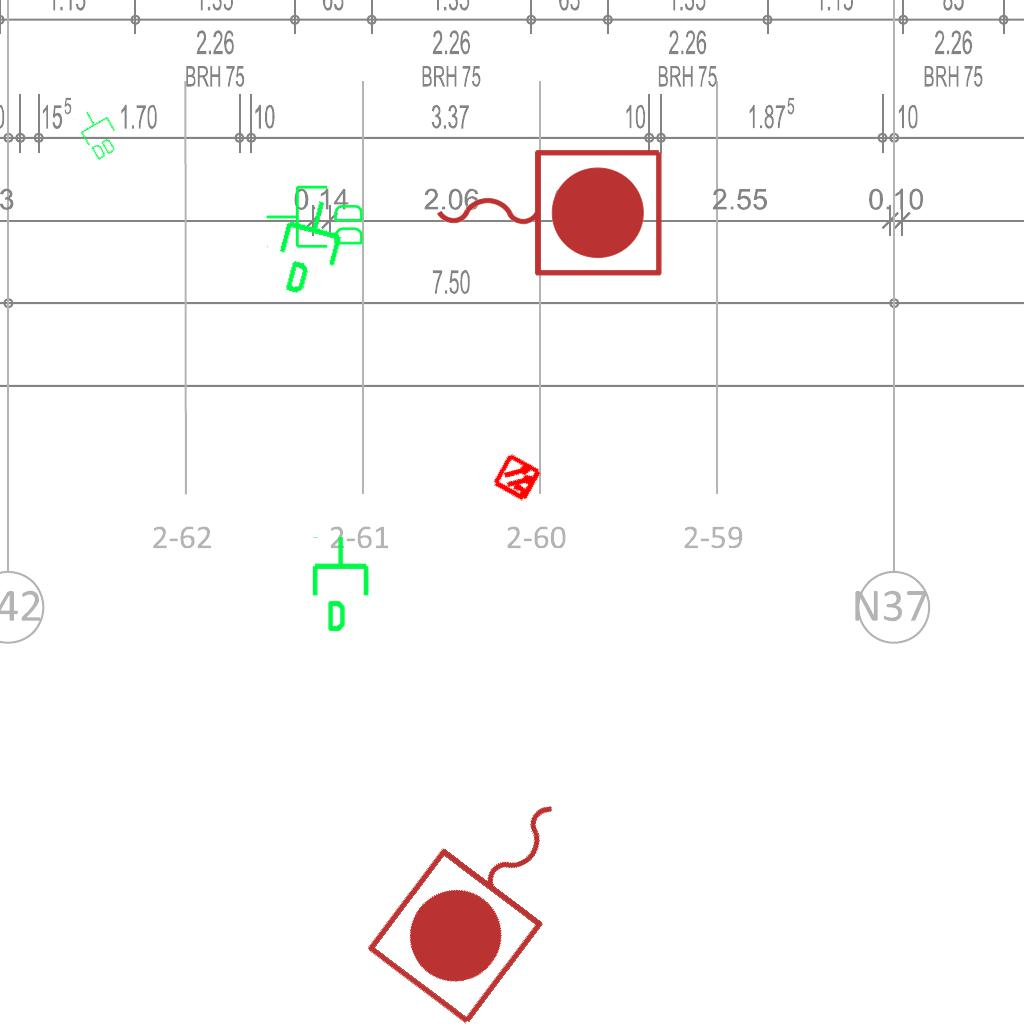Datenanschluss_einfach: (265, 190, 358, 306), (308, 534, 377, 634)
Datenanschluss_zweifach: (264, 183, 367, 252), (71, 102, 126, 164)
OT_Multisensormelder_(Kombination_RMO_WMD): (479, 439, 557, 517)
Zugtaster: (356, 756, 618, 1024), (426, 139, 670, 283)
